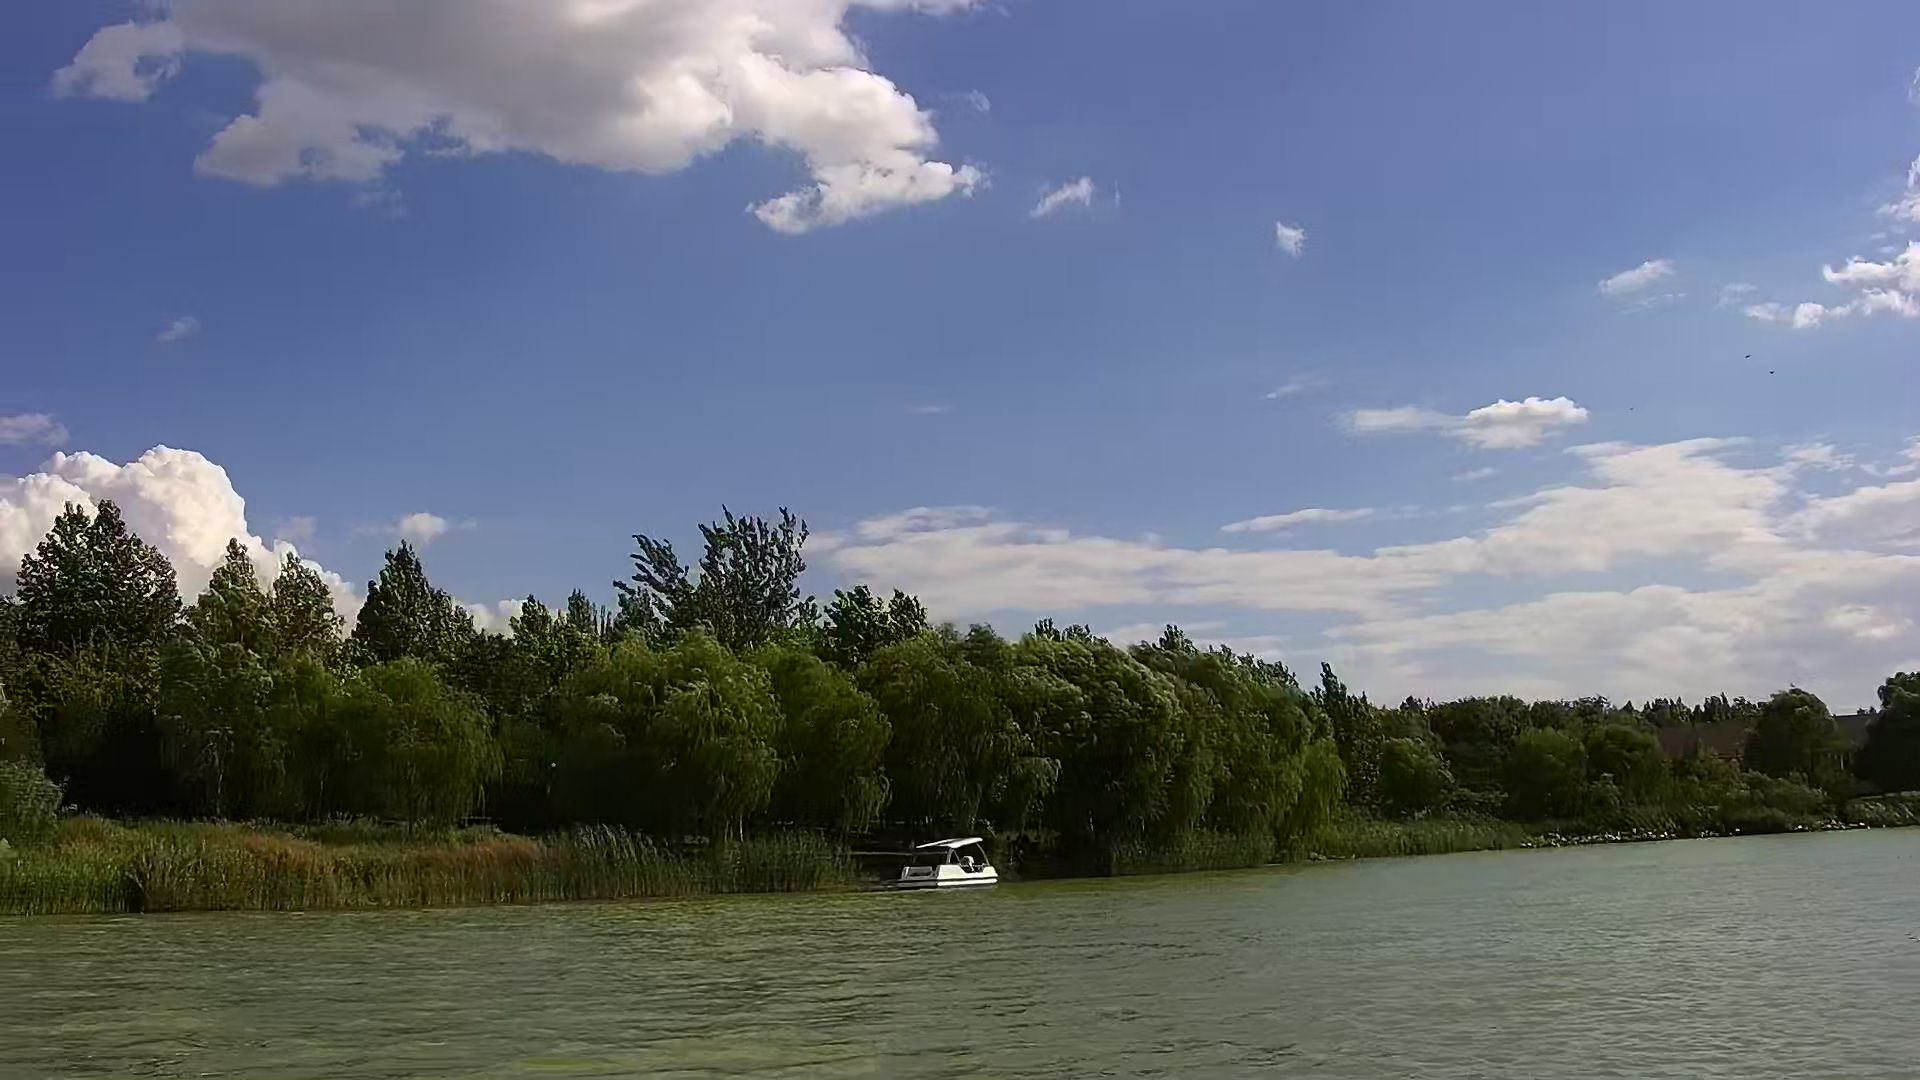boat: (899, 837, 1002, 887)
